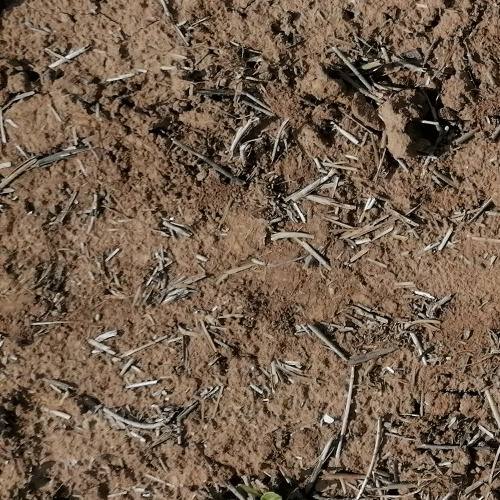beet: (254, 490, 283, 500)
